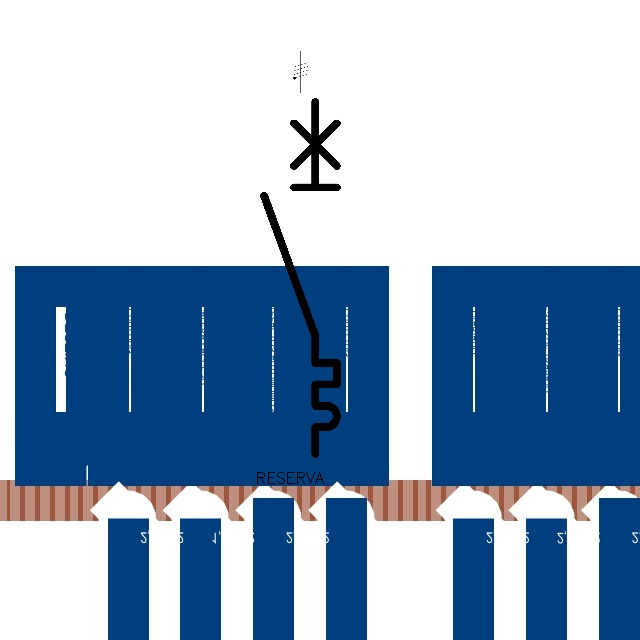interruptor_termomagnetico: (255, 92, 346, 462)
